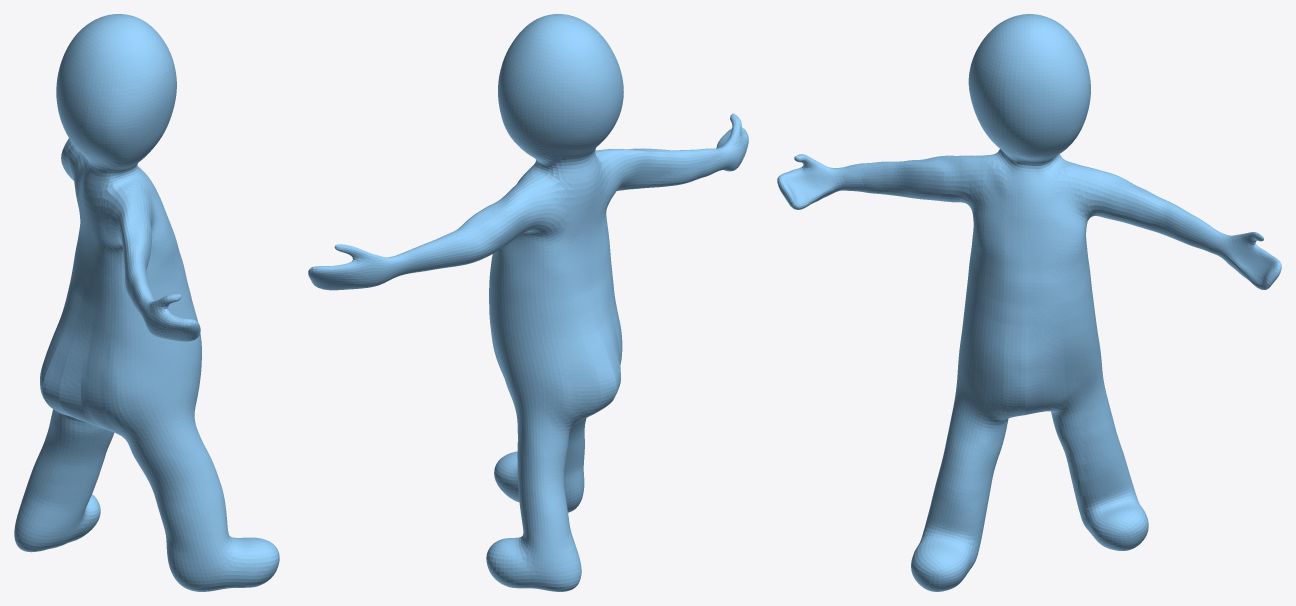
File: character_pose3_edited_blender.obj
3 renders of one model, left to right at view 1: azimuth 30°, elevation 25°; view 2: azimuth 150°, elevation 25°; view 3: azimuth 270°, elevation 25°, orthographic. The views are drawn at different scales.
Parts seen in each view (by area): view 1: character_pose3_edited; view 2: character_pose3_edited; view 3: character_pose3_edited.
Boxes of the visible parts, <box> form: character_pose3_edited: <box>14,14,279,591</box>; character_pose3_edited: <box>308,14,748,591</box>; character_pose3_edited: <box>777,14,1281,591</box>.
Bounding box in the file's own units: 1.2 × 2.99 × 2.58.
